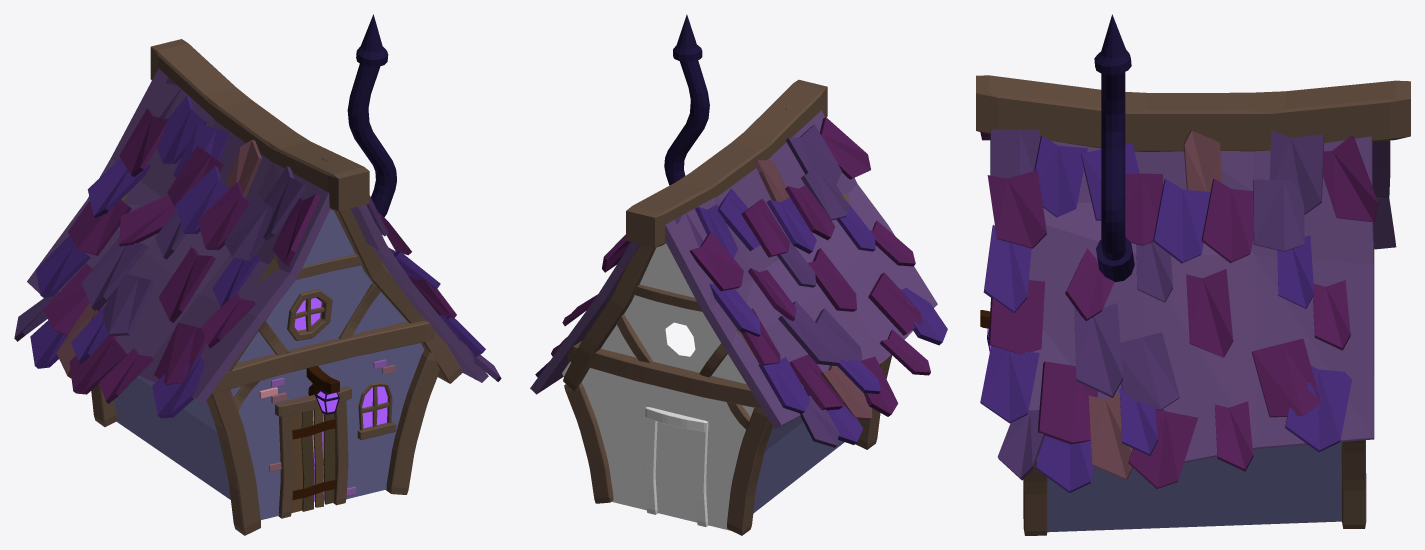
Rendered from 1bajtica 1.glb.
3 views of the same model, side by side, from view 1: azimuth 30°, elevation 25°; view 2: azimuth 150°, elevation 25°; view 3: azimuth 270°, elevation 25° (orthographic). The views are drawn at different scales.
Visible parts, largest first — view 1: Cube.023; view 2: Cube.023; view 3: Cube.023.
Part boxes in pixels (x1,y1,x2,y2): Cube.023: [14, 14, 501, 535]; Cube.023: [530, 14, 947, 535]; Cube.023: [976, 14, 1410, 535].
Bounding box in the file's own units: 6.18 × 7.51 × 5.63.
